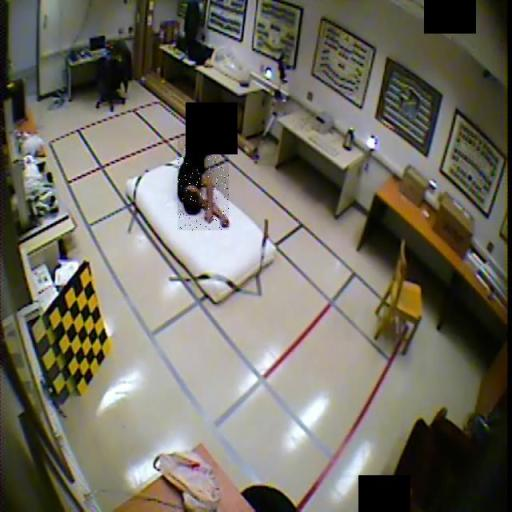Fall: (178, 137, 229, 230)
